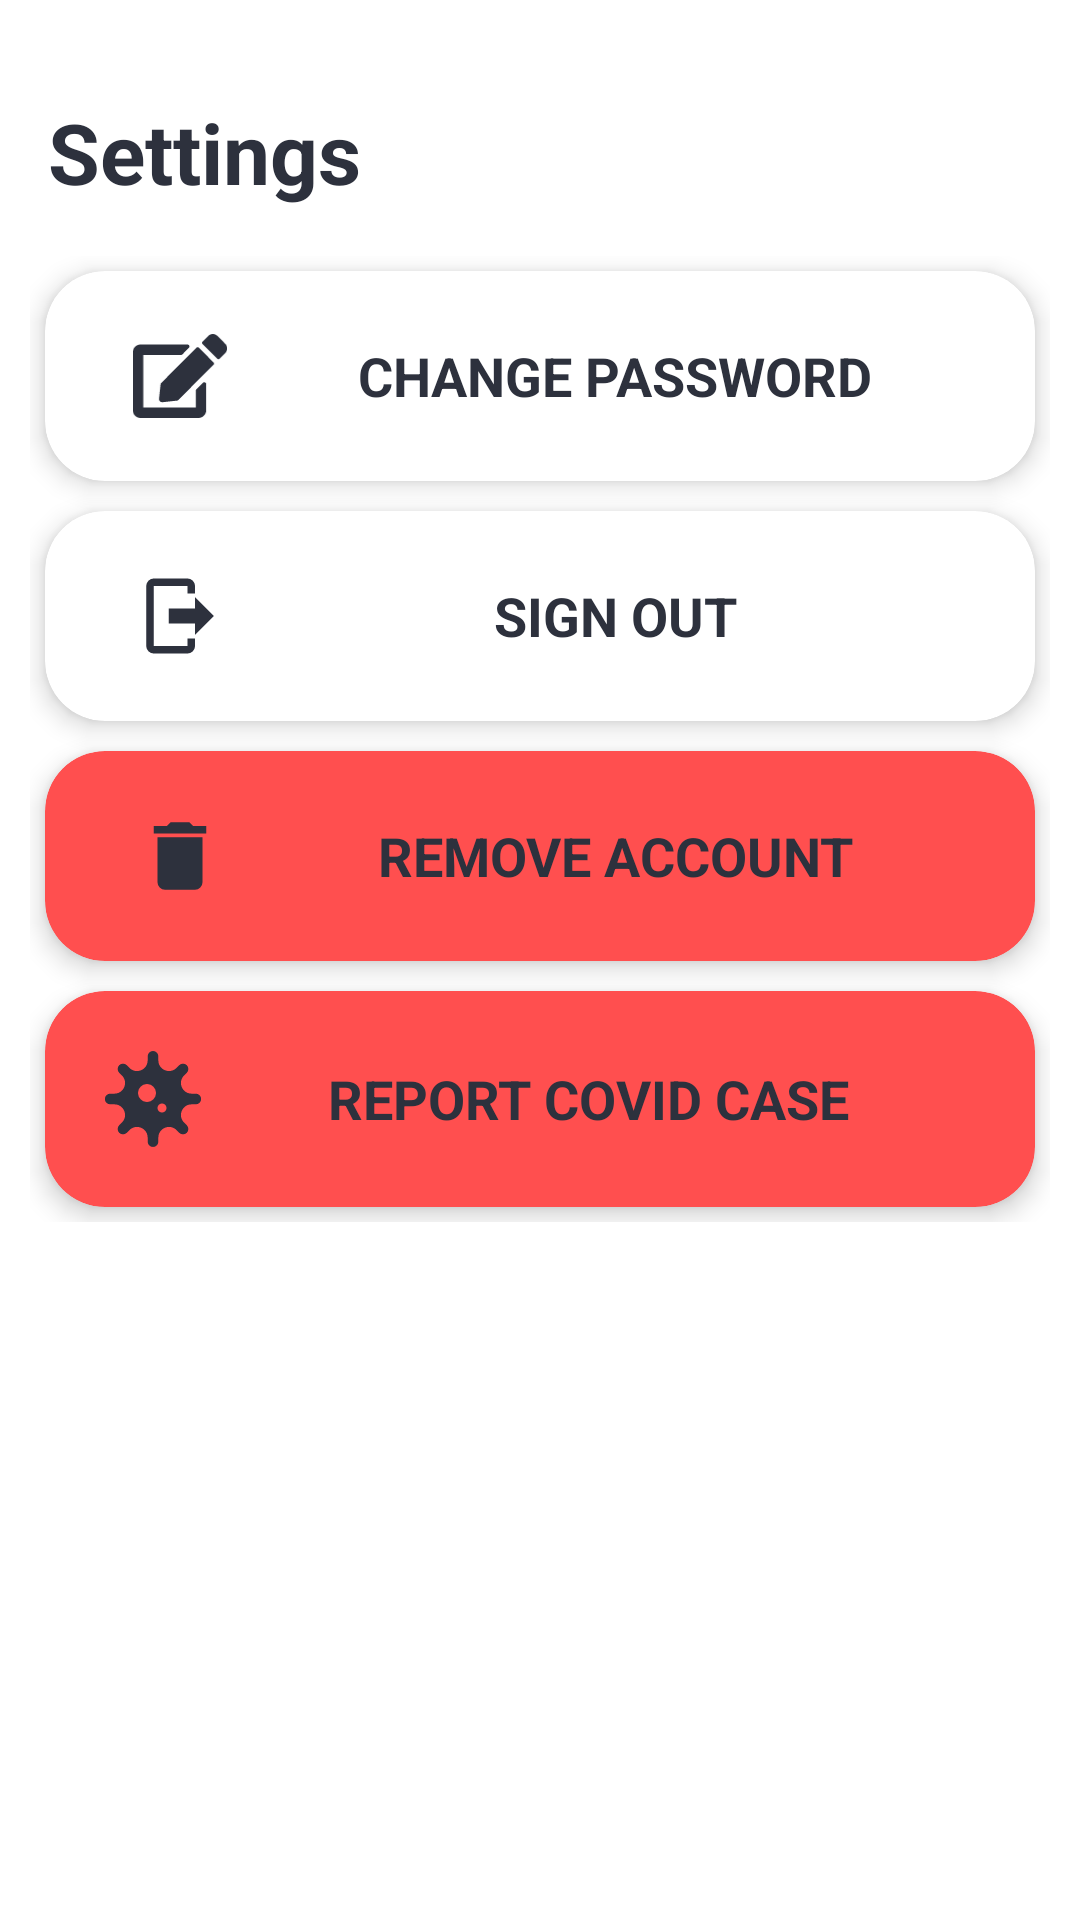

Icons on this 1080 x 1920 Android screen, each with its box as (x1, y1, x2, y2):
delete: (153, 822, 207, 890)
edit: (133, 334, 227, 418)
virus: (105, 1051, 201, 1147)
